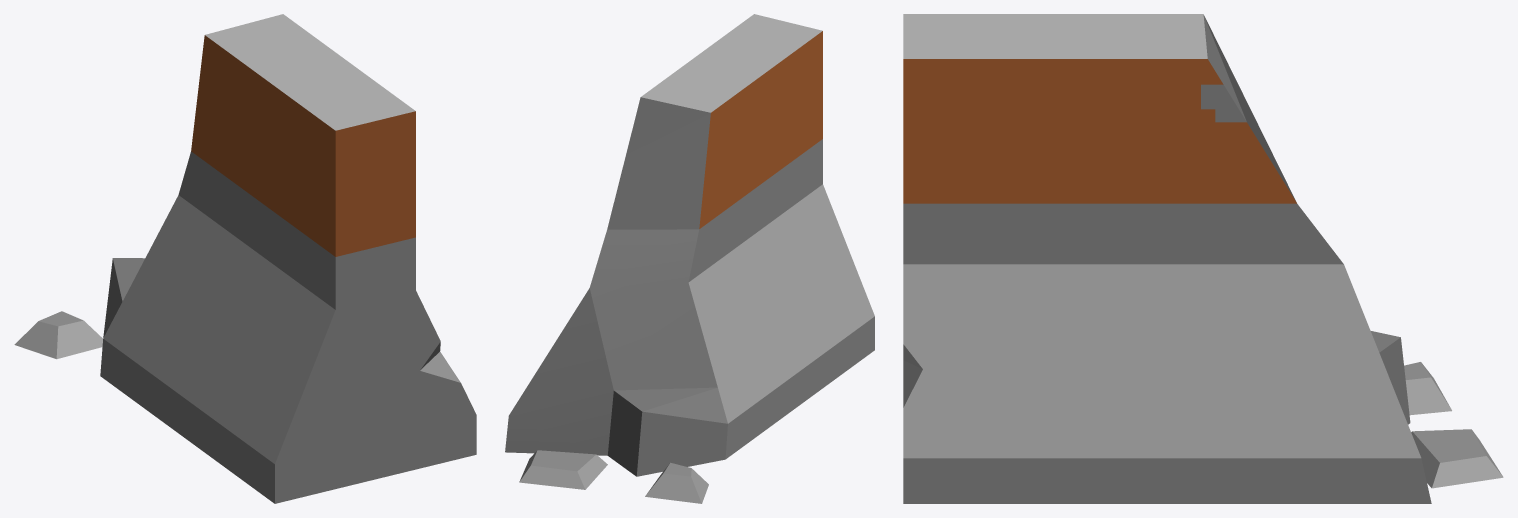
Rendered from SA_Prop_Barrier_03.glb.
3 views of the same model, side by side, from view 1: azimuth 30°, elevation 25°; view 2: azimuth 150°, elevation 25°; view 3: azimuth 270°, elevation 25° (orthographic). The views are drawn at different scales.
Visible parts, largest first — view 1: SA_Prop_Barrier_03; view 2: SA_Prop_Barrier_03; view 3: SA_Prop_Barrier_03.
Boxes of the visible parts, x1=… form: SA_Prop_Barrier_03: x1=14, y1=14, x2=476, y2=503; SA_Prop_Barrier_03: x1=505, y1=14, x2=874, y2=503; SA_Prop_Barrier_03: x1=903, y1=14, x2=1503, y2=503.
Size of the model in its own units: 0.4809 by 0.7189 by 0.9438.
Materials: 1 (1 with a texture image).
